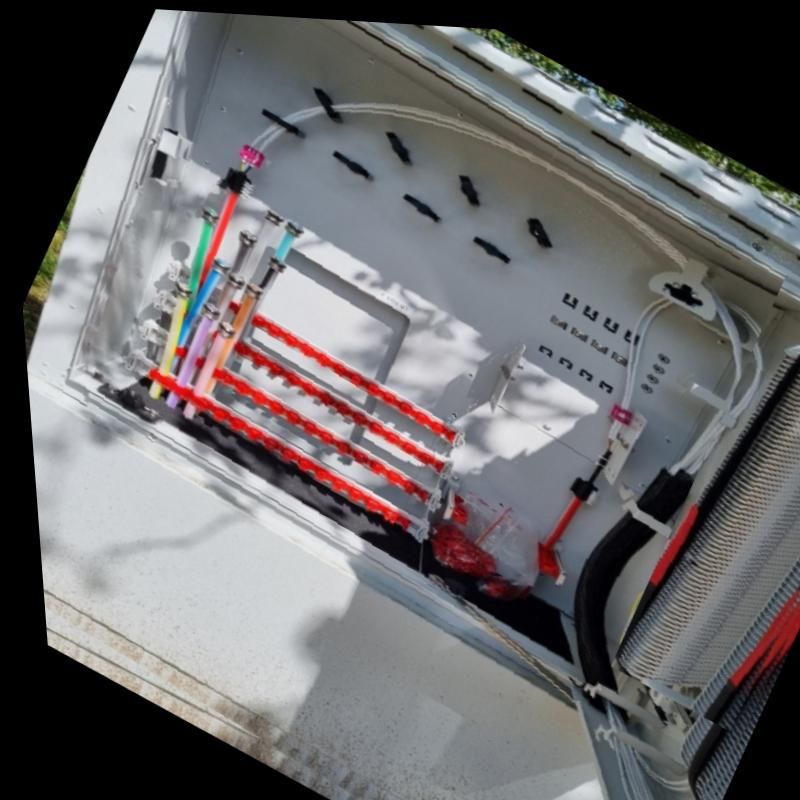NT-Gehause: (21, 7, 800, 800)
Spleiskassetten: (603, 330, 800, 687)
